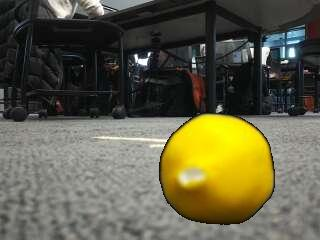lemon: (160, 114, 273, 224)
